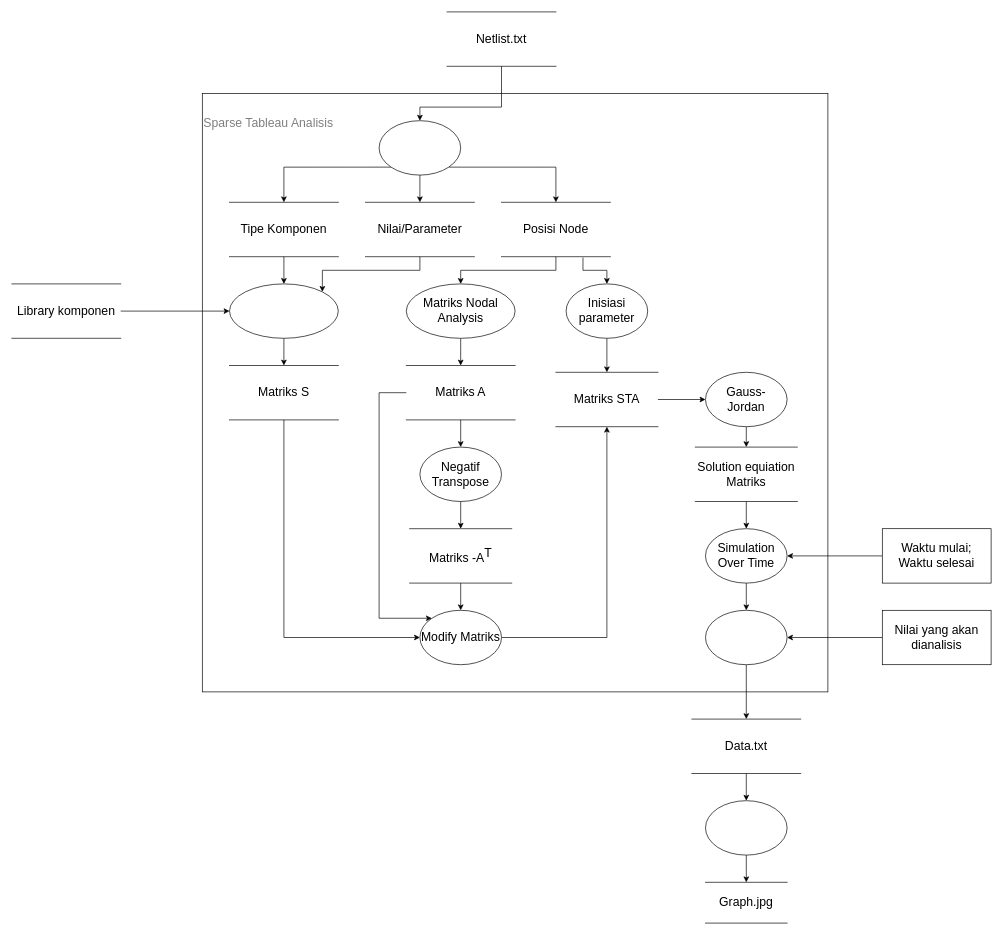
This 1003x935 diagram has some shape labels left out. Each missing label, with the centre of its shape:
"Matriks Komponen" goes at pixel 283 310.
"Microsoft Excel" goes at pixel 746 827.
"Separator" goes at pixel 419 147.
"To File" goes at pixel 746 637.
